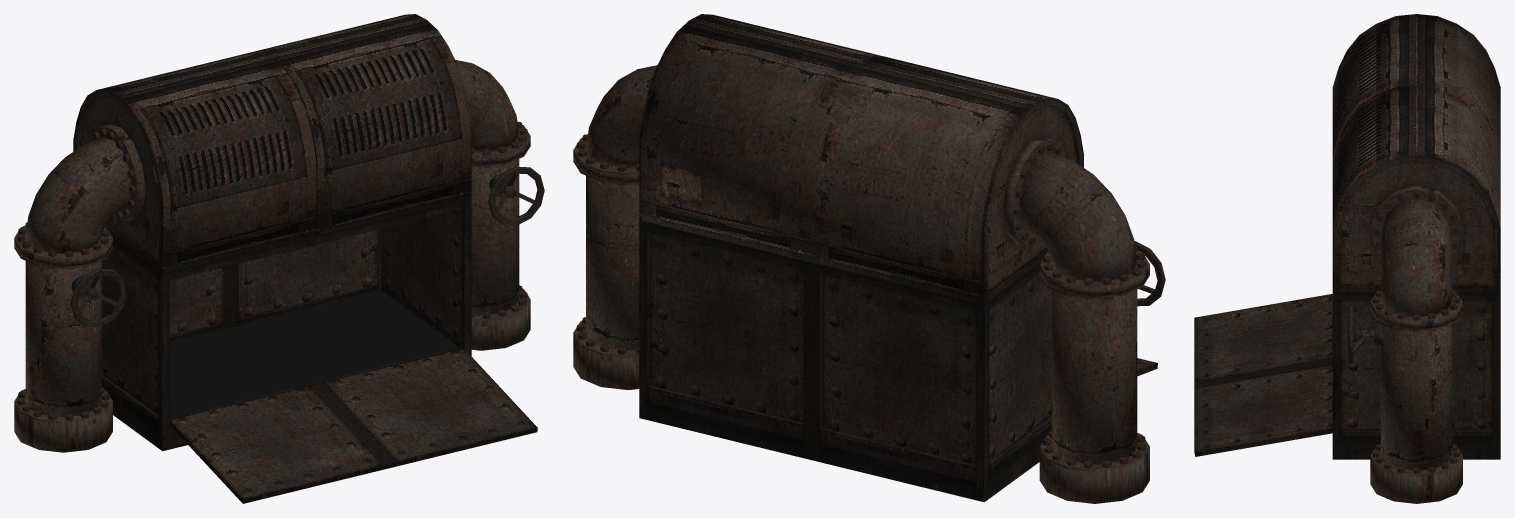
The model's file is packingMachine.glb.
The picture shows the model from 3 angles, left to right: view 1: azimuth 30°, elevation 25°; view 2: azimuth 150°, elevation 25°; view 3: azimuth 270°, elevation 25°; orthographic projection. The views are drawn at different scales.
Visible parts, largest first — view 1: packingMachine, packingMachineDoor; view 2: packingMachine; view 3: packingMachine, packingMachineDoor.
Boxes of the visible parts, x1,y1,x2,y2 form: packingMachine: (14, 14, 544, 452); packingMachineDoor: (170, 346, 537, 503); packingMachine: (573, 14, 1165, 503); packingMachine: (1332, 14, 1500, 503); packingMachineDoor: (1194, 294, 1332, 456).
Bounding box in the file's own units: 3.9 × 2.4 × 2.19.
1 material, 1 textured.
